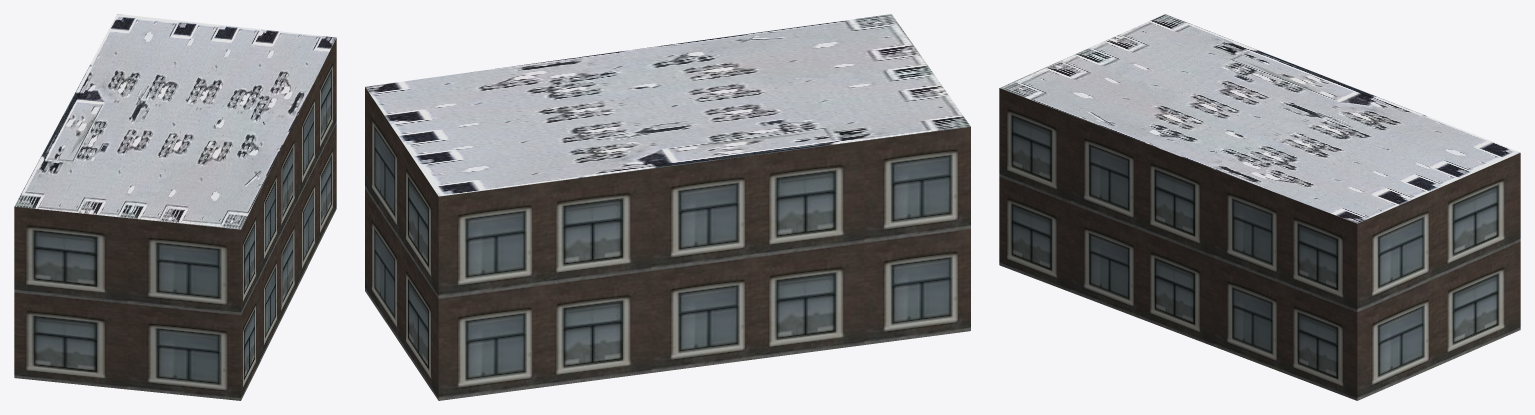
Rendered from ResTex__58.fbx.
The picture shows the model from 3 angles, left to right: view 1: azimuth 30°, elevation 25°; view 2: azimuth 150°, elevation 25°; view 3: azimuth 270°, elevation 25°; orthographic projection. The views are drawn at different scales.
Visible parts, largest first — view 1: CityEngineMaterial_16_m, CityEngineMaterial_15_m; view 2: CityEngineMaterial_16_m, CityEngineMaterial_15_m; view 3: CityEngineMaterial_16_m, CityEngineMaterial_15_m.
Part boxes in pixels (x1,y1,x2,y2): CityEngineMaterial_16_m: (14, 38, 336, 400); CityEngineMaterial_15_m: (14, 14, 336, 229); CityEngineMaterial_16_m: (365, 87, 970, 400); CityEngineMaterial_15_m: (365, 14, 970, 196); CityEngineMaterial_16_m: (999, 88, 1520, 400); CityEngineMaterial_15_m: (1000, 14, 1519, 223).
Bounding box in the file's own units: 15.21 × 6 × 15.98.
Materials: 2 (2 with a texture image).
